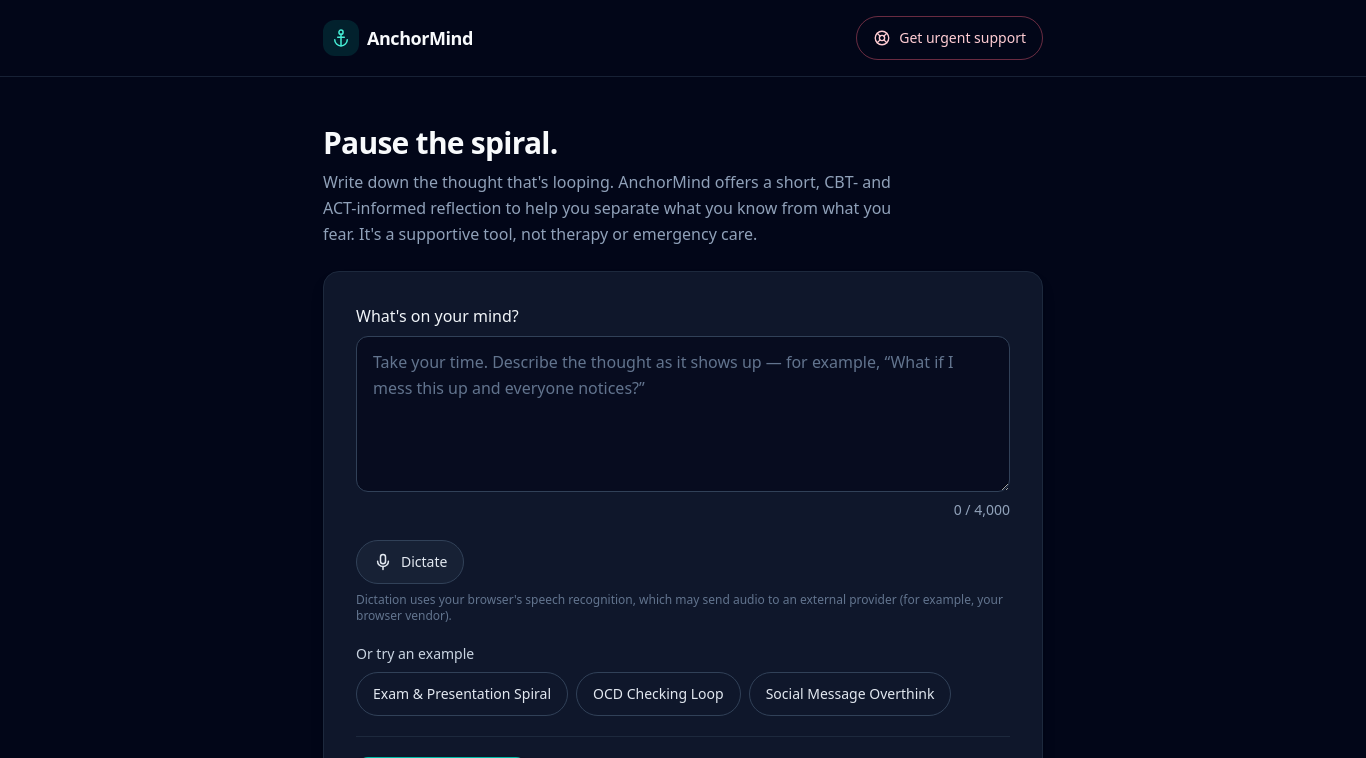
Test case: Home page flow › sends the exact preset text and id
Click the button "Social Message Overthink".
click(850, 694)  # box [749, 672, 951, 716]
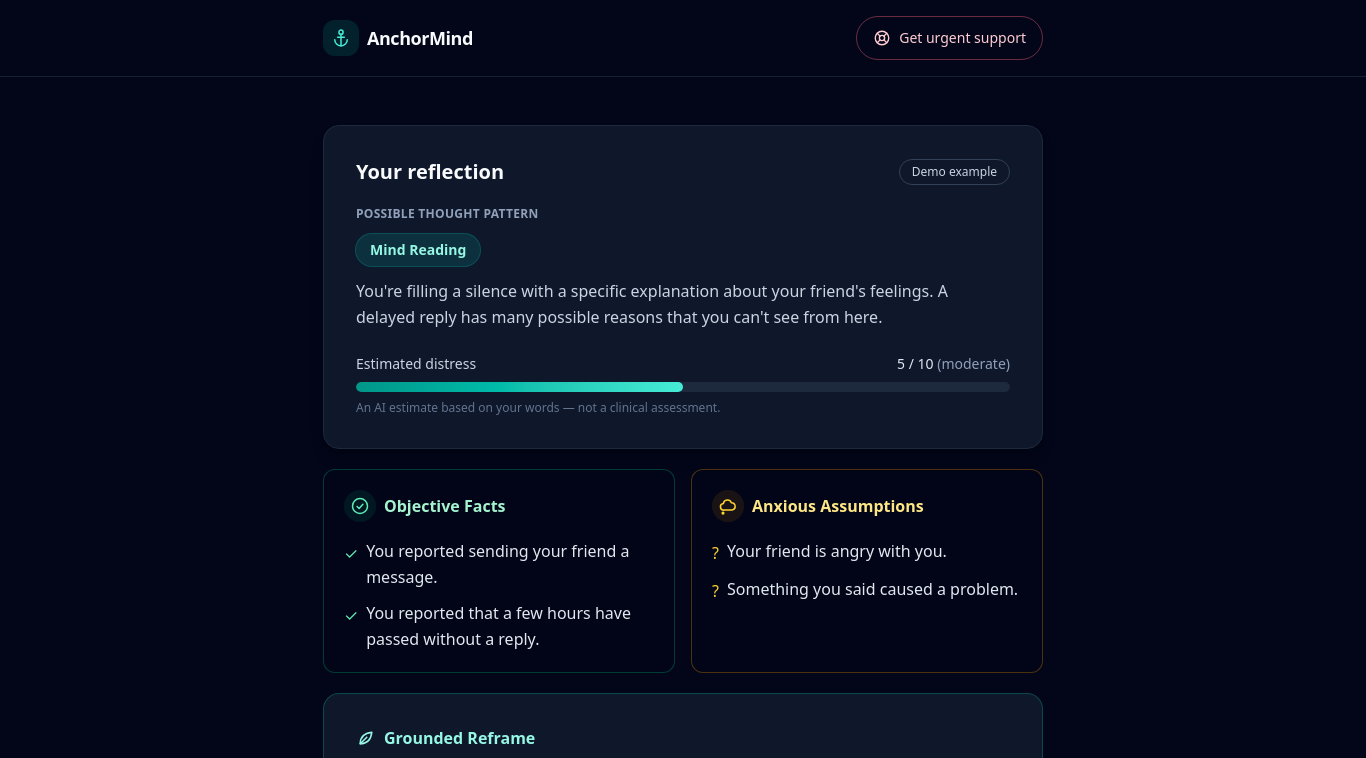
Now the text "Mind Reading" is shown, box [356, 234, 480, 266]
